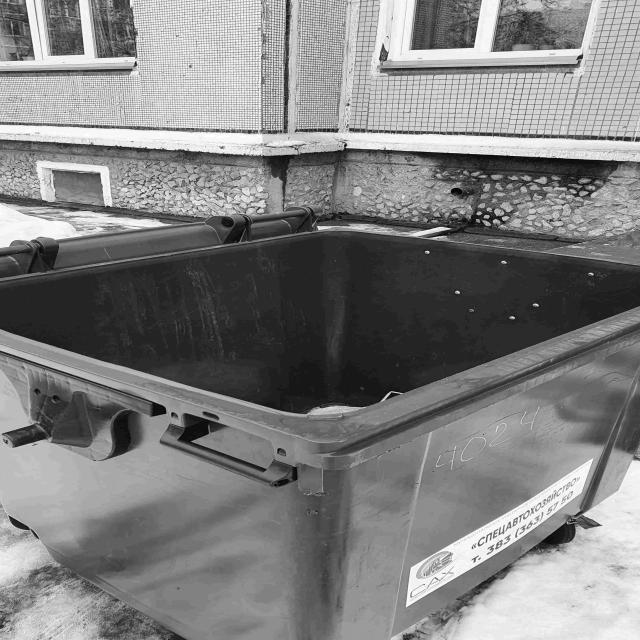Trashcan: (0, 208, 636, 640)
